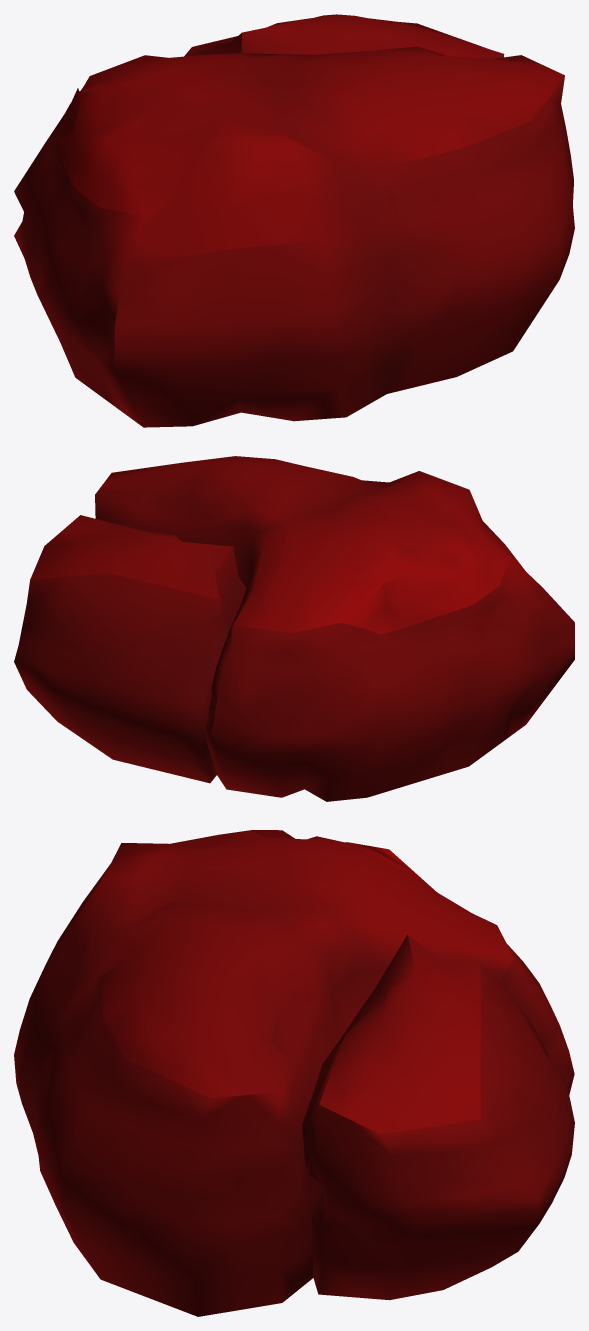
Rendered from geology-rocks-sharprock_v6.fbx.
The picture shows the model from 3 angles, top to bottom: view 1: azimuth 30°, elevation 25°; view 2: azimuth 150°, elevation 25°; view 3: azimuth 270°, elevation 25°; orthographic projection. The views are drawn at different scales.
Visible parts, largest first — view 1: SharpRock_v6; view 2: SharpRock_v6; view 3: SharpRock_v6.
Boxes of the visible parts, x1,y1,x2,y2 form: SharpRock_v6: (14,14,574,427); SharpRock_v6: (14,456,574,801); SharpRock_v6: (14,830,574,1316).
Bounding box in the file's own units: 4.02 × 2.04 × 3.52.
